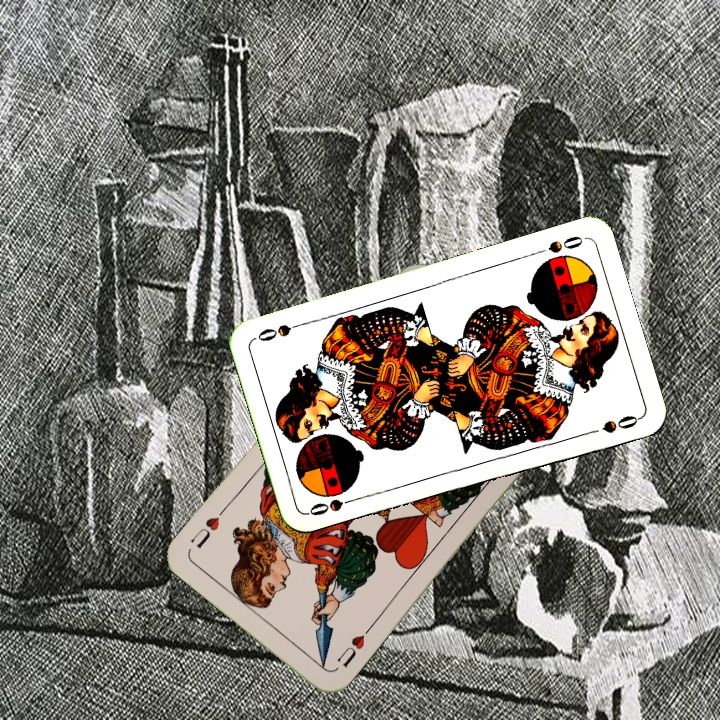HU: (332, 623, 374, 671)
SO: (530, 231, 588, 258), (305, 492, 363, 518)
